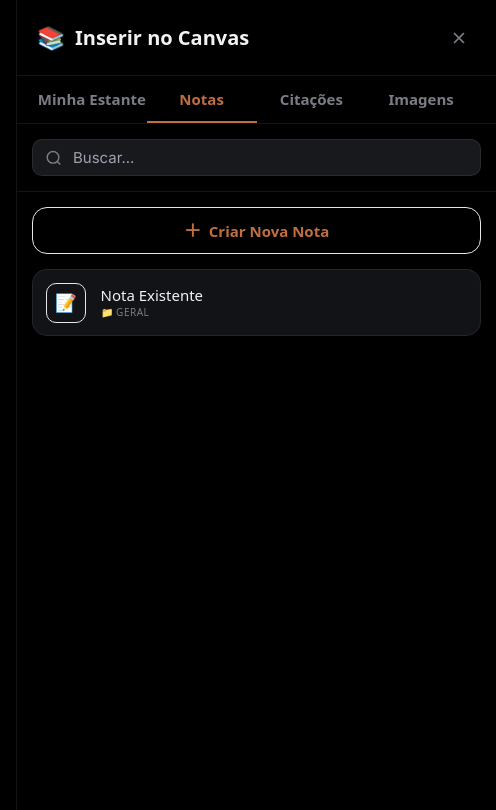
Test: CanvasInsertDrawer Component › exibe o botão Criar Nova Nota na aba de notas e abre o formulário
// Clica para abrir o formulário inline
Click the button "＋ Criar Nova Nota" at (256, 230), box [32,207,481,254]
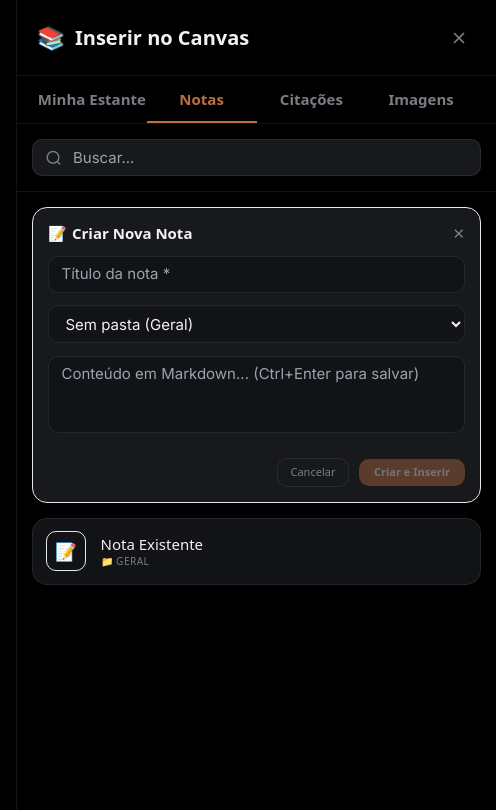
Check: the field with placeholder "Título da nota *" is shown, box [48,256,465,292]
